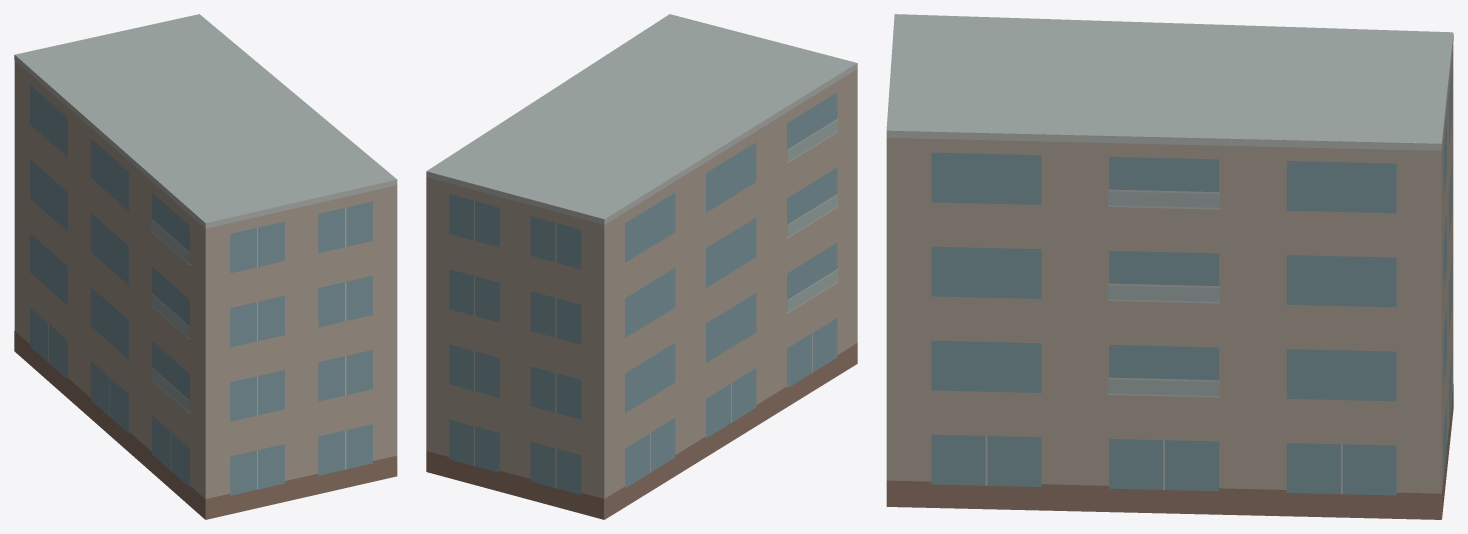
Rendered from survey-upis-32753199.glb.
The picture shows the model from 3 angles, left to right: view 1: azimuth 30°, elevation 25°; view 2: azimuth 150°, elevation 25°; view 3: azimuth 270°, elevation 25°; orthographic projection. The views are drawn at different scales.
Visible parts, largest first — view 1: survey-upis-32753199.tmp; view 2: survey-upis-32753199.tmp; view 3: survey-upis-32753199.tmp.
Boxes of the visible parts, box(x1,y1,x2,y2) form: survey-upis-32753199.tmp: box(14, 14, 397, 519); survey-upis-32753199.tmp: box(426, 14, 857, 519); survey-upis-32753199.tmp: box(886, 14, 1453, 519).
Bounding box in the file's own units: 9.56 × 12.9 × 17.64.
